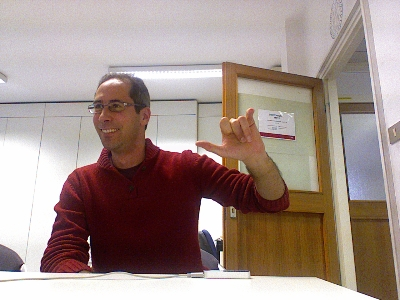六六六: (193, 105, 267, 162)
